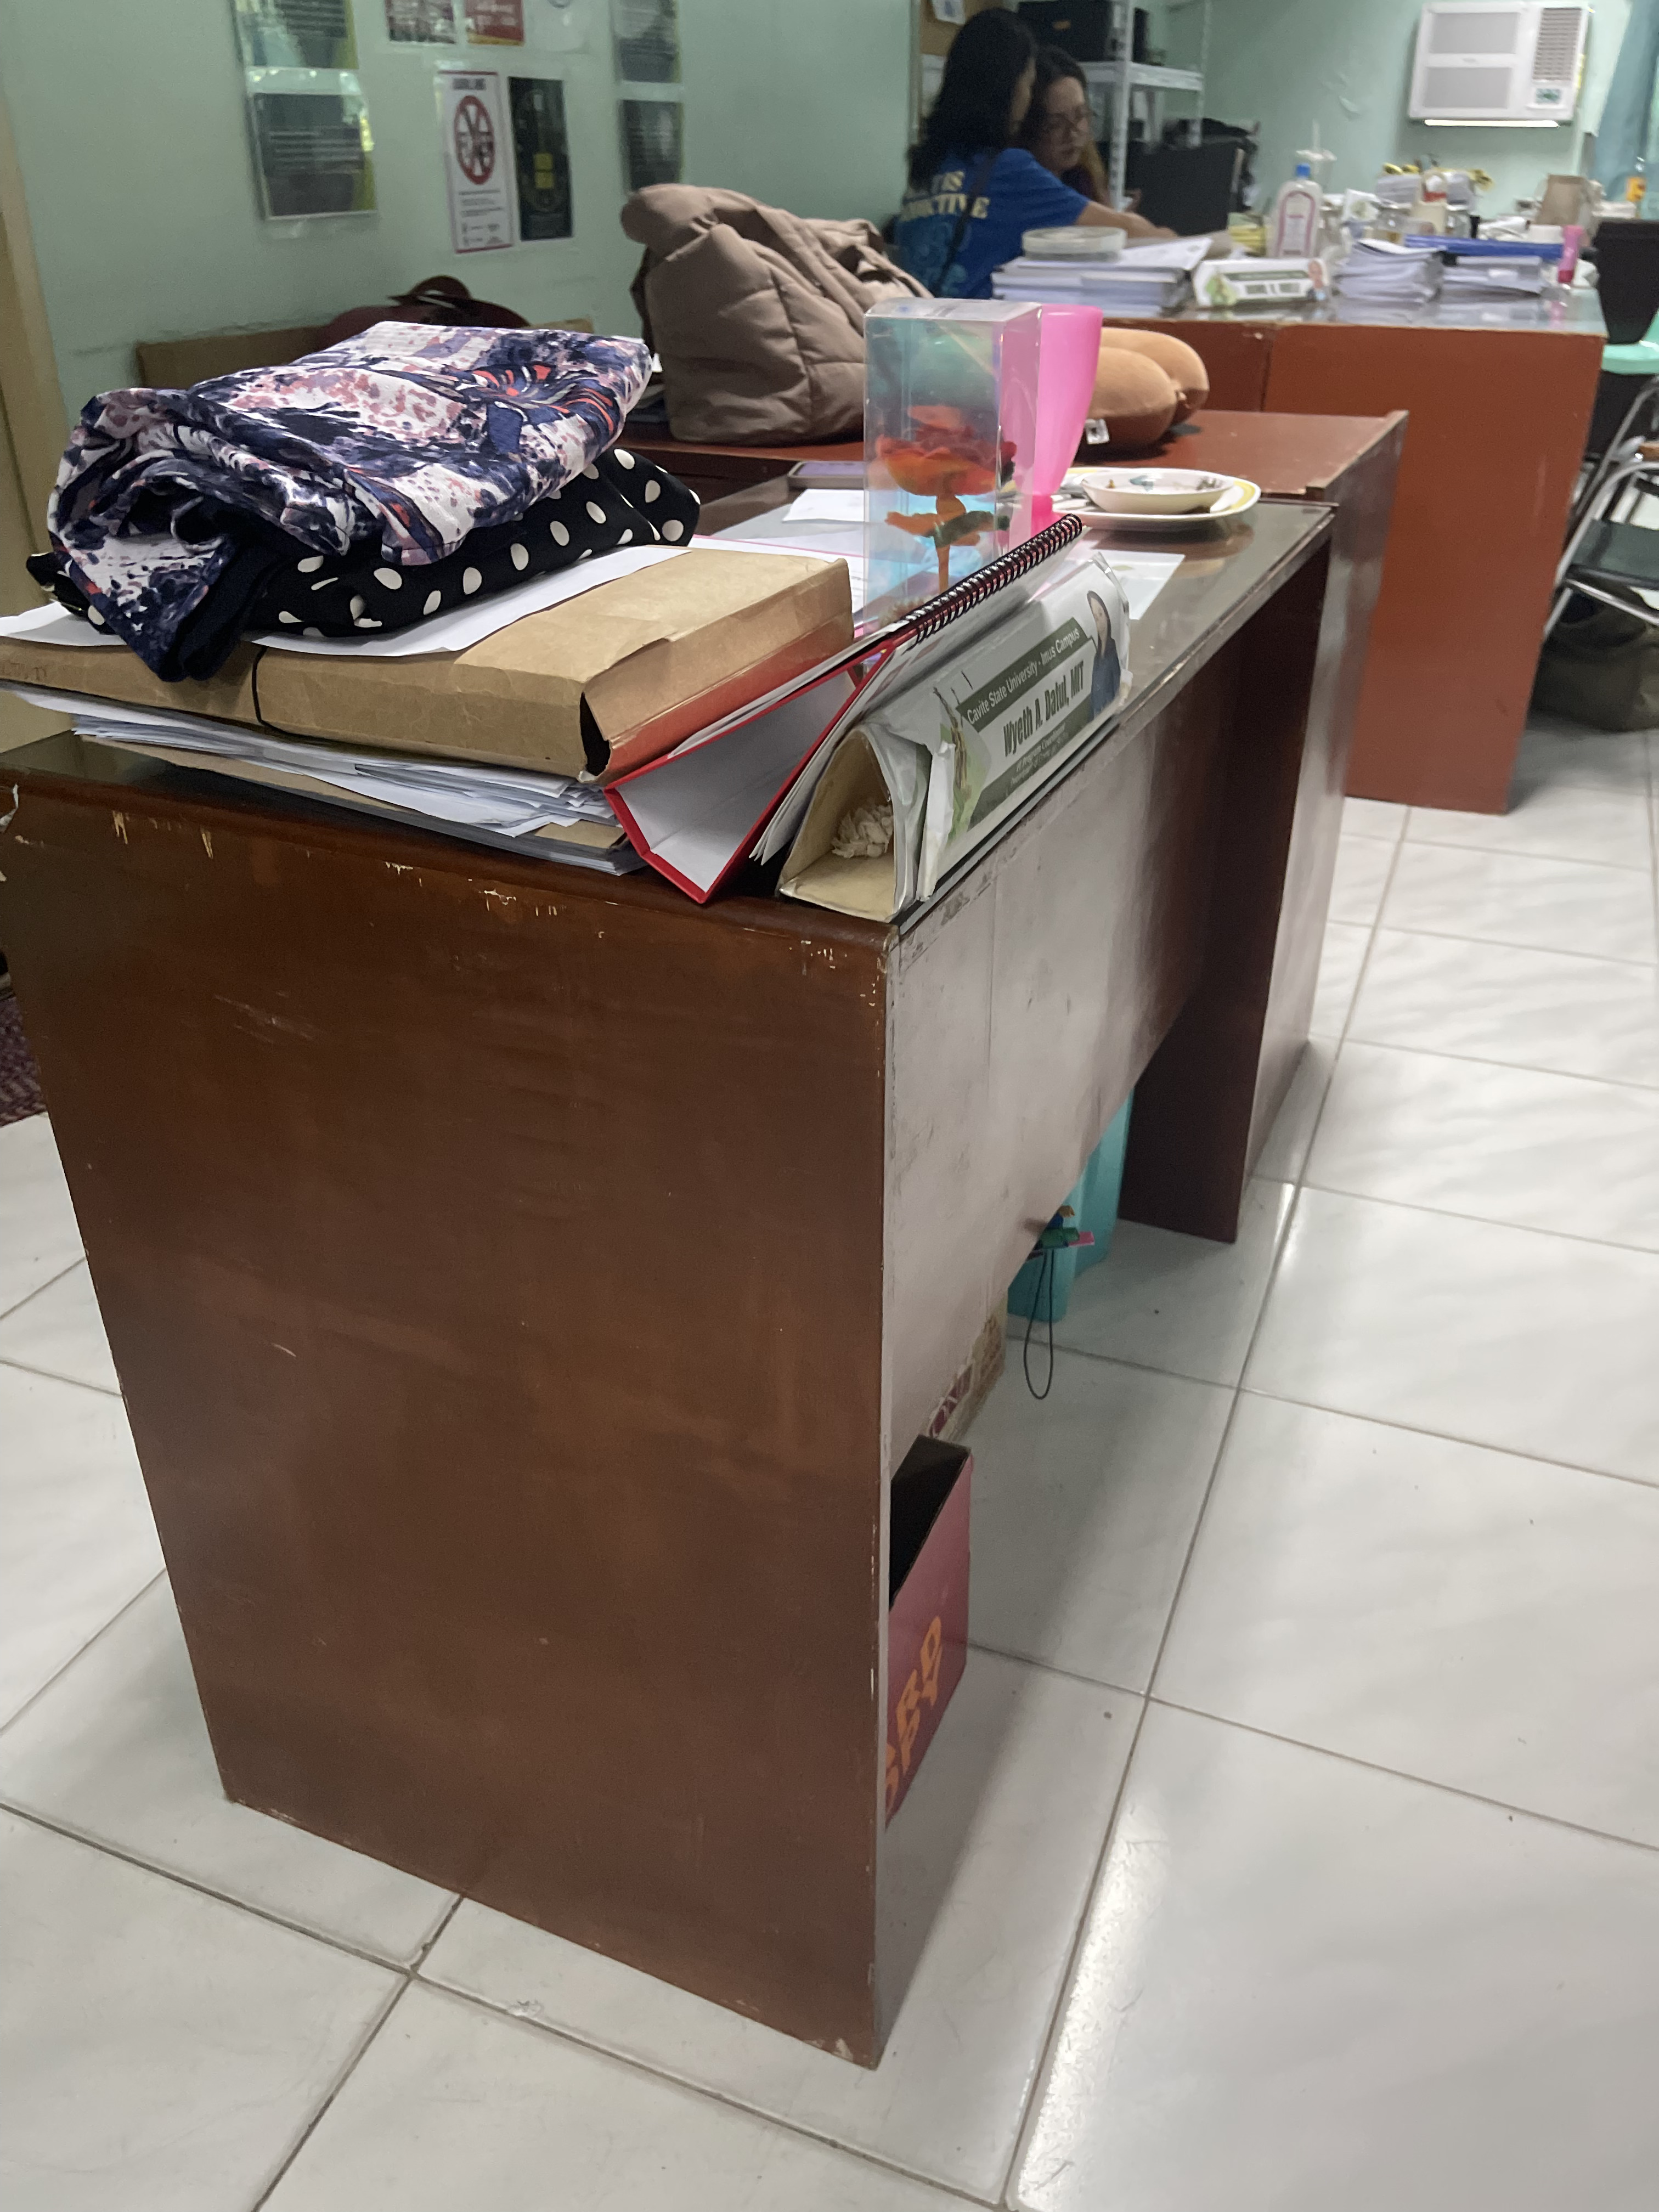table2: (7, 402, 1283, 2085)
